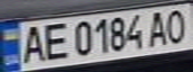0: (69, 18, 93, 57)
1: (90, 16, 112, 54)
4: (124, 11, 148, 50)
8: (109, 14, 130, 52)
A: (15, 22, 48, 65), (145, 8, 172, 47)
E: (39, 20, 72, 62)
O: (163, 7, 190, 45)
